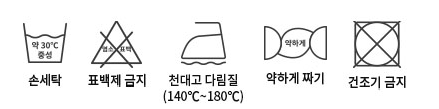KR_gentle_wring: (257, 23, 332, 64)
KR_hand_wash_30_neutral: (18, 18, 70, 66)
KR_no_chlorine_bleach: (87, 17, 144, 69)
KR_no_tumble_dry: (350, 15, 406, 72)
